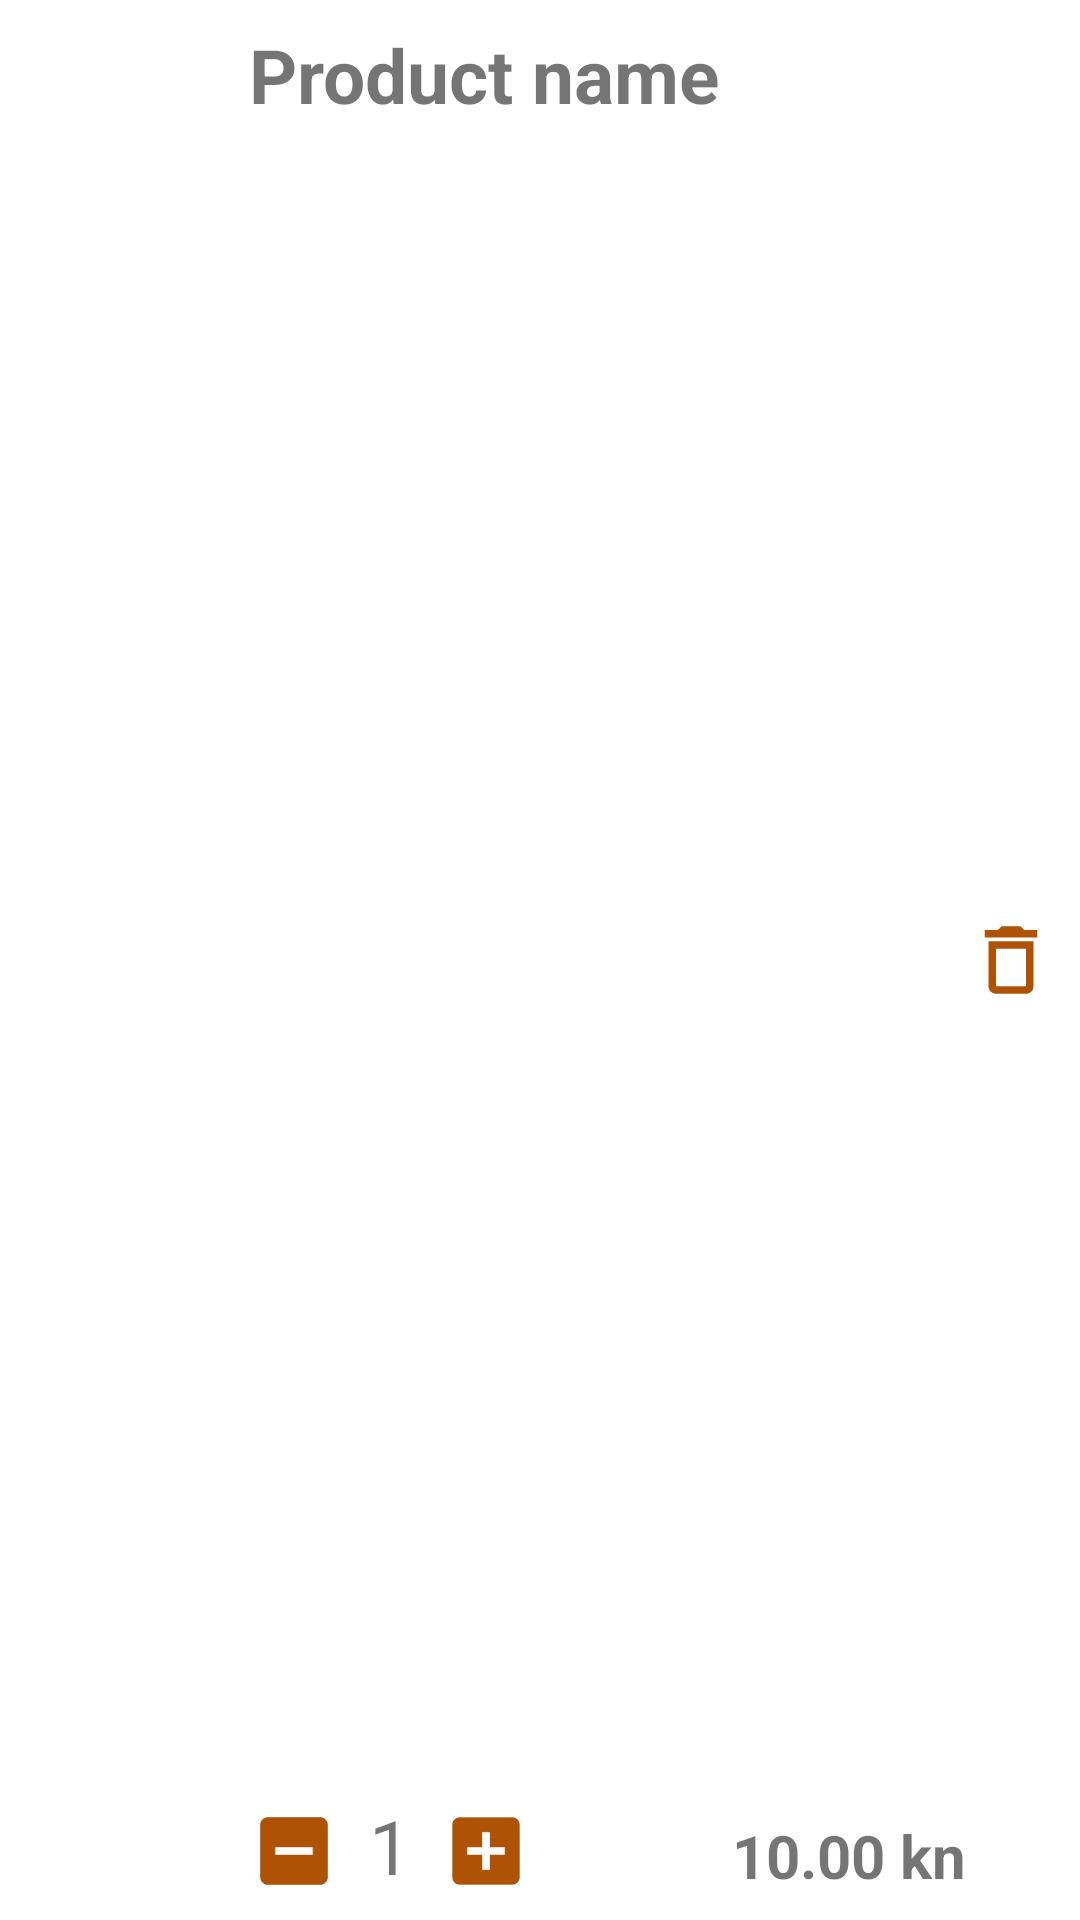

Screen size 1080 × 1920. Icon name, then its center in pixels as [x,y]:
add box: [486,1851]
delete: [1011,960]
indeterminate check box: [294,1851]
